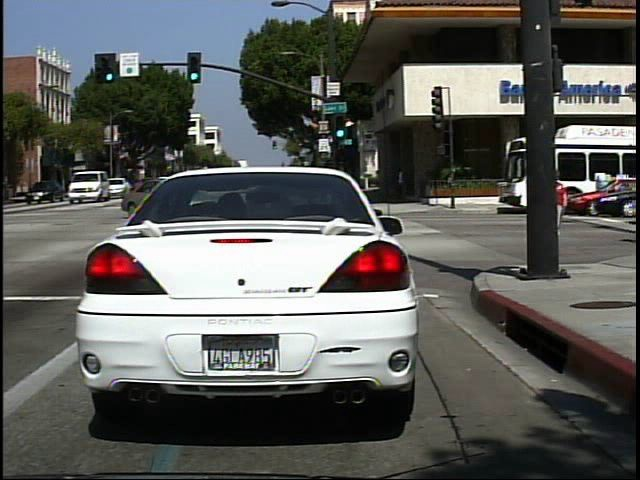person: (549, 168, 575, 245)
